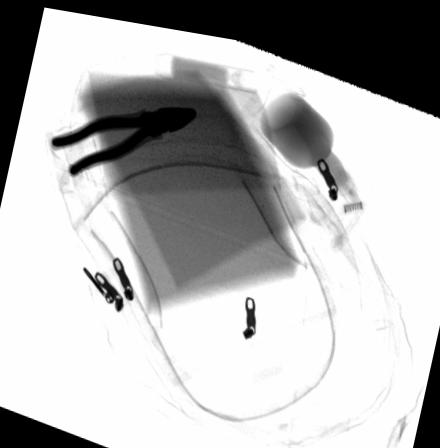Pliers: (49, 98, 196, 174)
